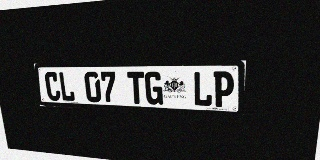0: (84, 72, 102, 103)
7: (99, 72, 117, 103)
C: (44, 72, 61, 101)
G: (145, 71, 163, 105)
L: (193, 71, 213, 107), (58, 72, 75, 102)
P: (213, 71, 234, 107)
T: (127, 71, 145, 104)
